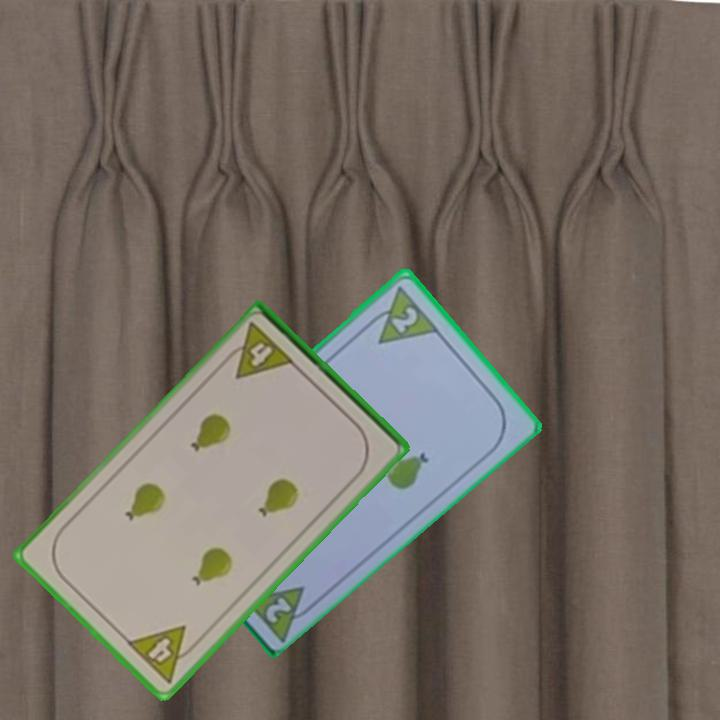2p: (361, 281, 442, 347), (261, 592, 295, 626)
4p: (123, 622, 204, 687), (219, 319, 298, 382)
